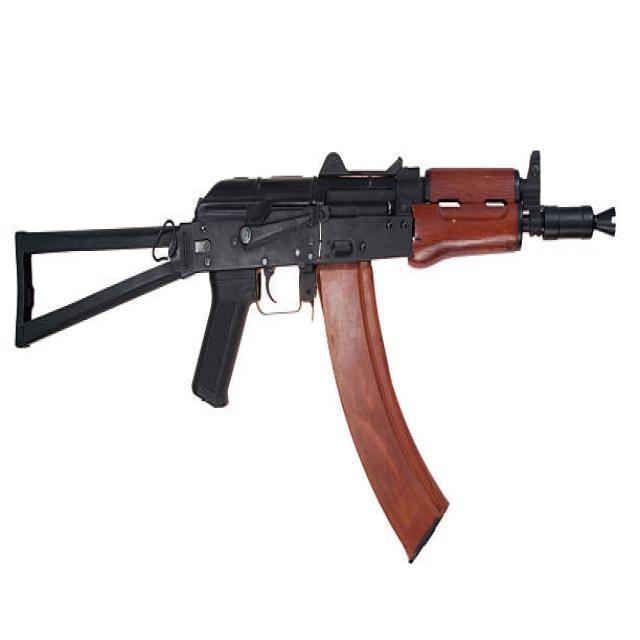rifle: (9, 137, 622, 570)
